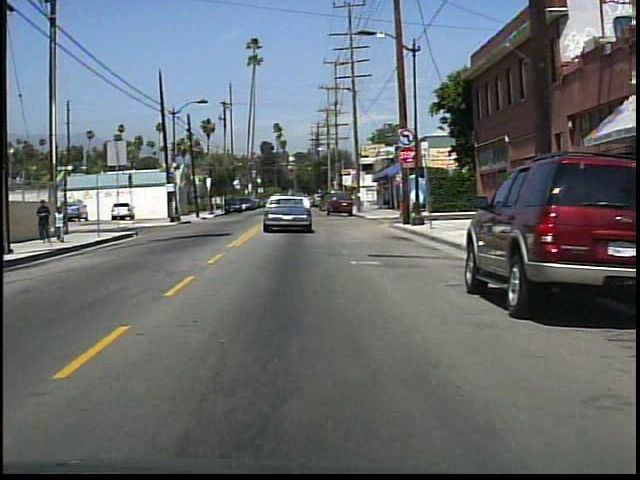person: (38, 198, 57, 243), (52, 203, 72, 243)
